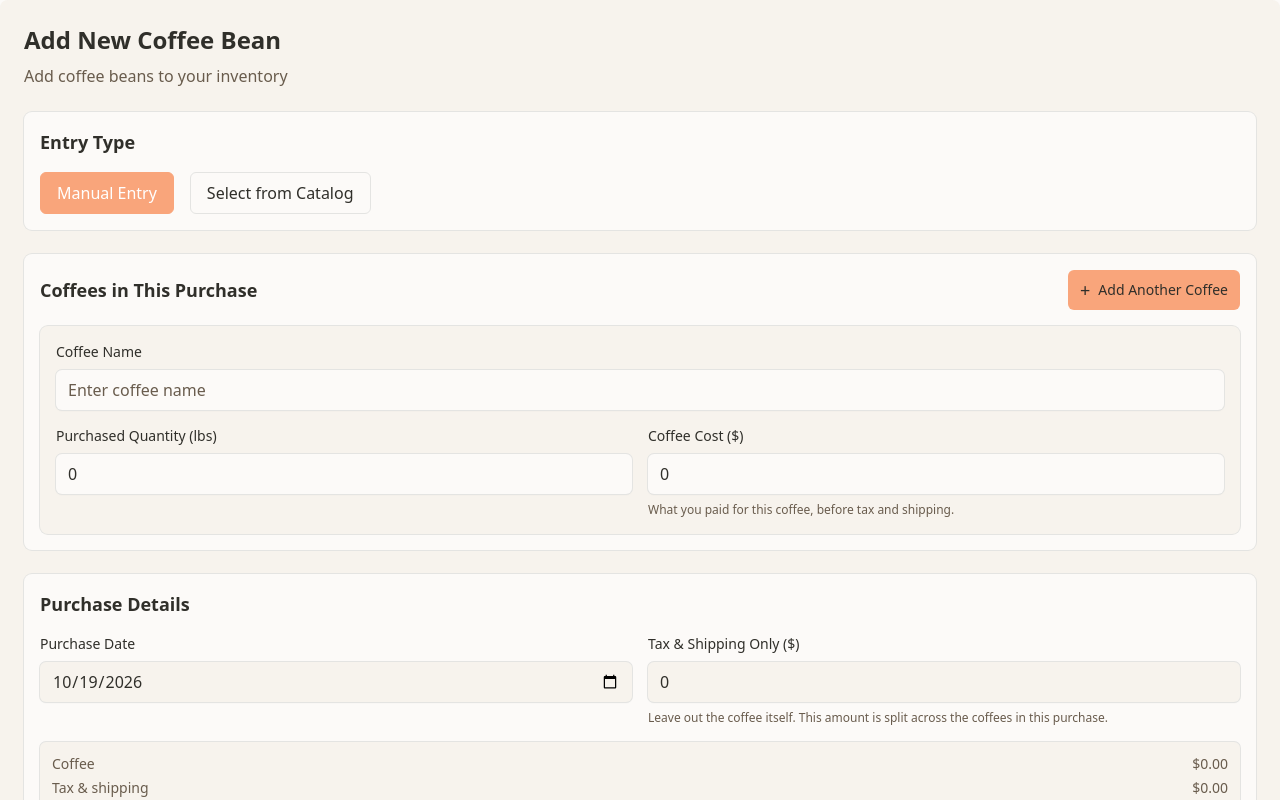
Scenario: BeanForm catalog coffee picker › lists stocked coffees A to Z and narrows them by search
Click the text "Select from Catalog": x=280, y=193 207,181 -> 354,205
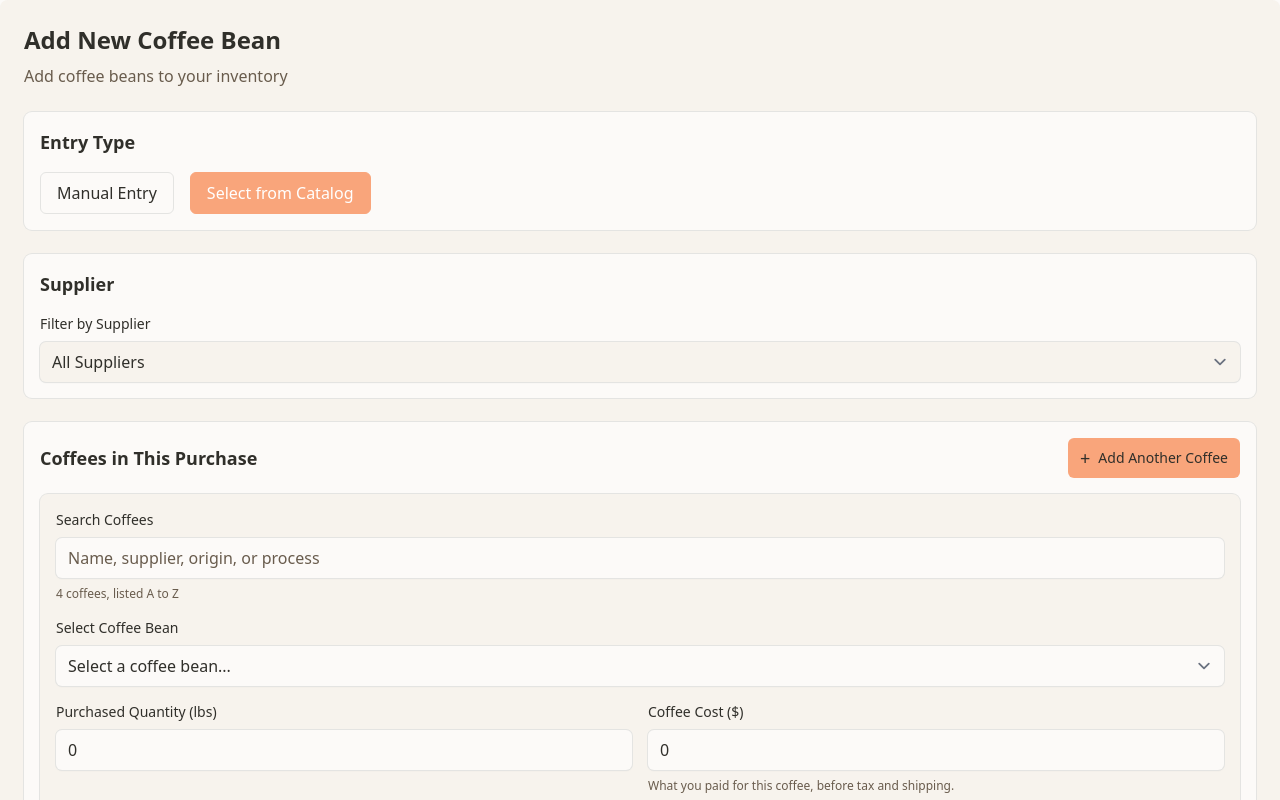
In the search field labelled "Search Coffees": x=640, y=558 56,538 -> 1224,578, type "ethiopia sweet"
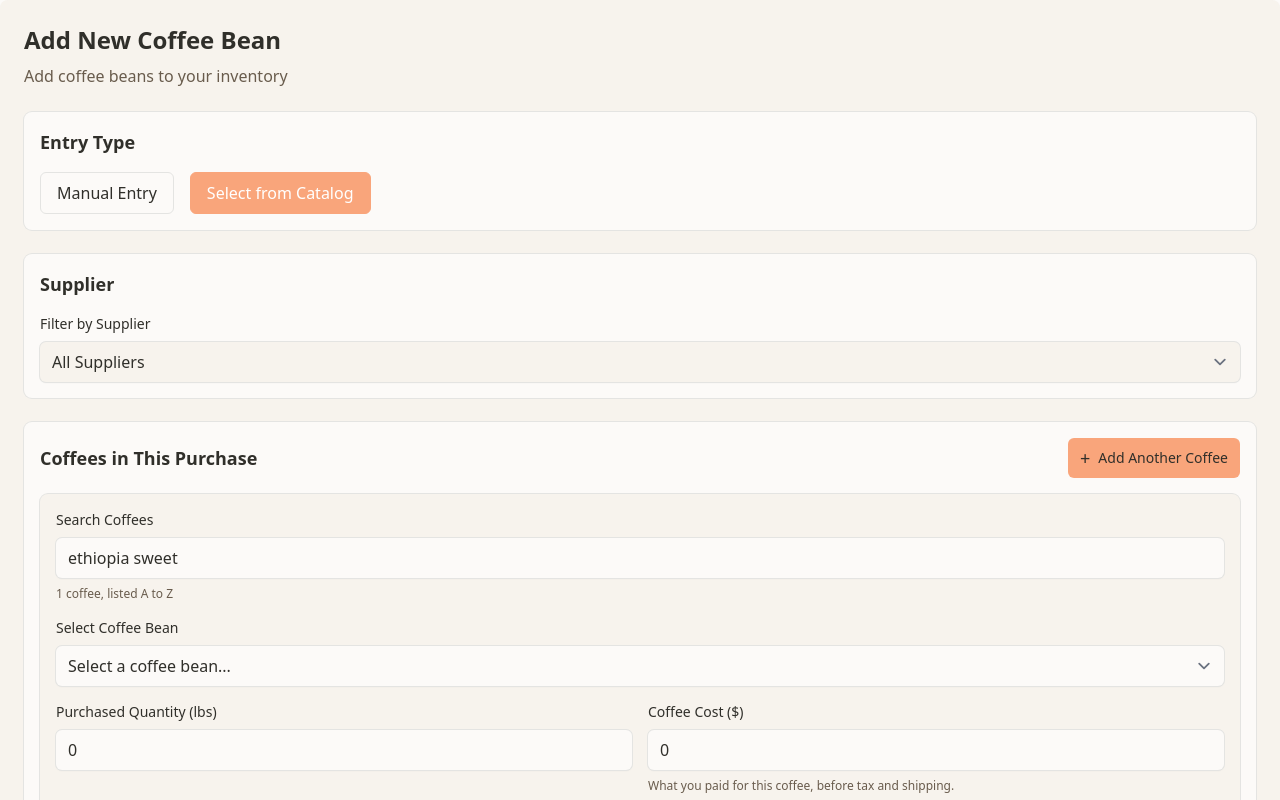
Expected: the text "1 coffee, listed A to Z" is shown, 56,585 -> 173,602
